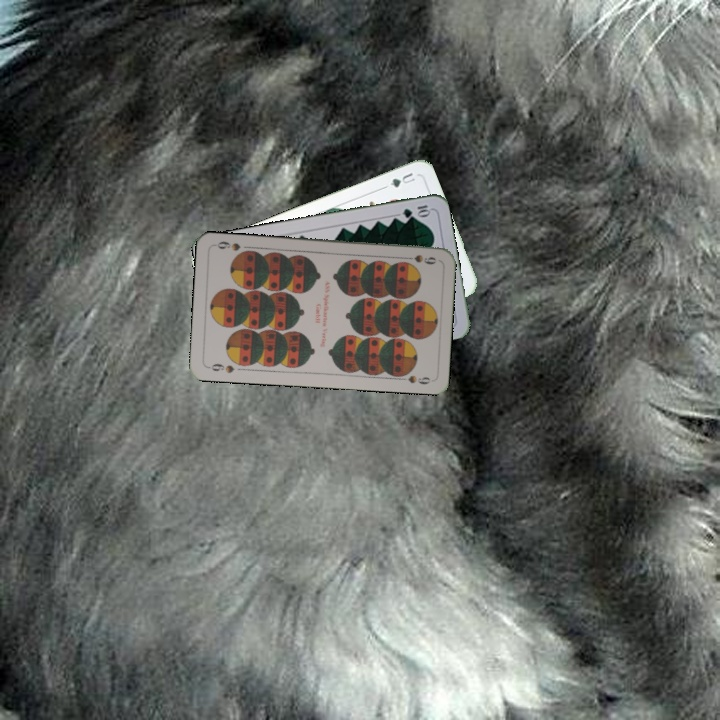G10: (399, 201, 434, 221)
GU: (386, 168, 418, 190)
S9: (399, 251, 438, 267), (204, 359, 237, 375)
